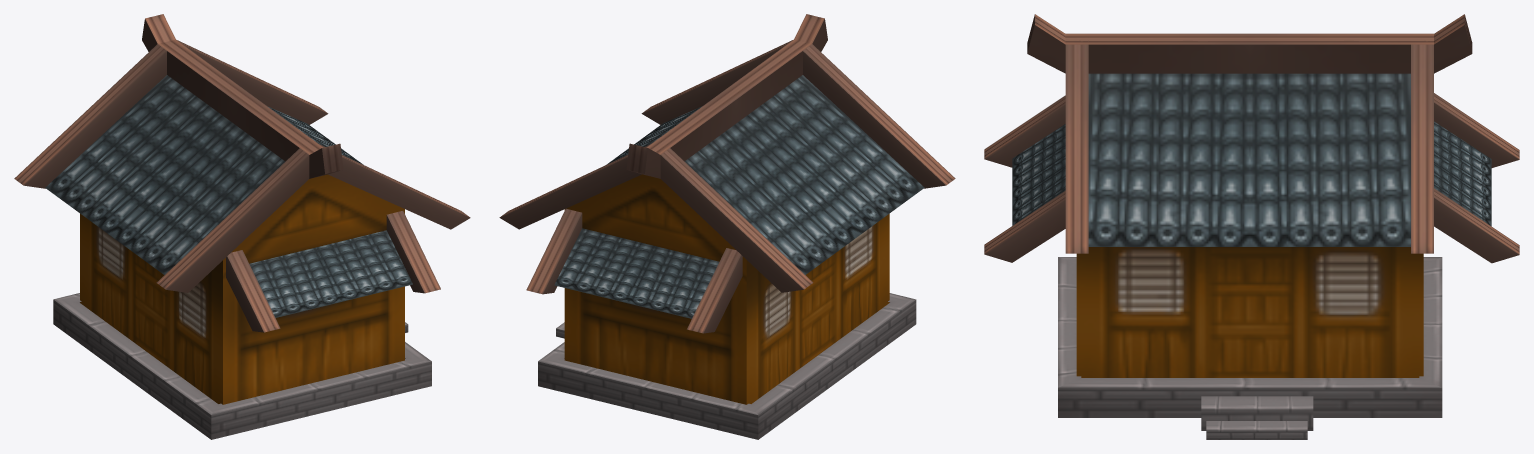
The model's file is zhucheng01_minfang.FBX.
3 views of the same model, side by side, from view 1: azimuth 30°, elevation 25°; view 2: azimuth 150°, elevation 25°; view 3: azimuth 270°, elevation 25° (orthographic). The views are drawn at different scales.
Visible parts, largest first — view 1: Object79; view 2: Object79; view 3: Object79.
Part boxes in pixels (x1,y1,x2,y2): Object79: (14,14,470,439); Object79: (499,14,955,439); Object79: (984,14,1519,439).
Size of the model in its own units: 9.43 by 8.1 by 11.81.
